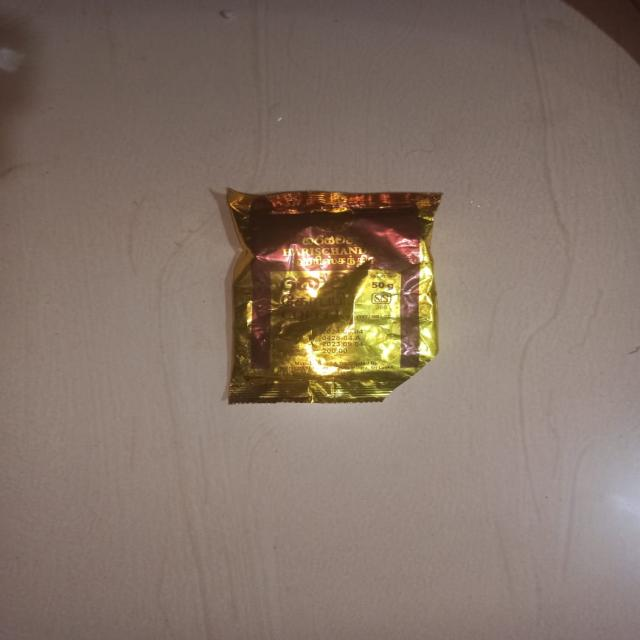Harischandra Coffee: (174, 172, 521, 458)
